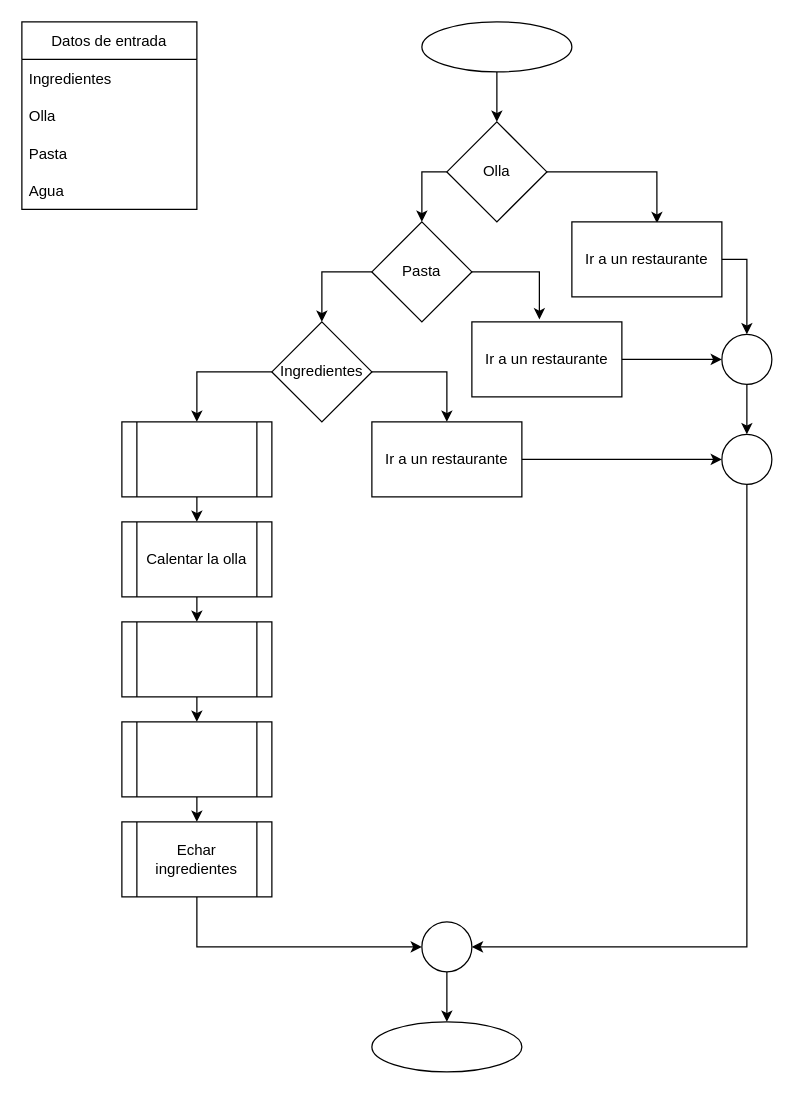
Some shapes in this 794 by 1094 pixel diagram are drawn without their labels. The shapes that lost their labels are listed below. From the top down, each one's centre as x and y in pixels, then its label:
pixel 496 46: Inicio
pixel 196 459: Llenar la olla con agua
pixel 196 659: Echar la pasta a la olla
pixel 196 759: Quitar el agua
pixel 446 1046: FIN
